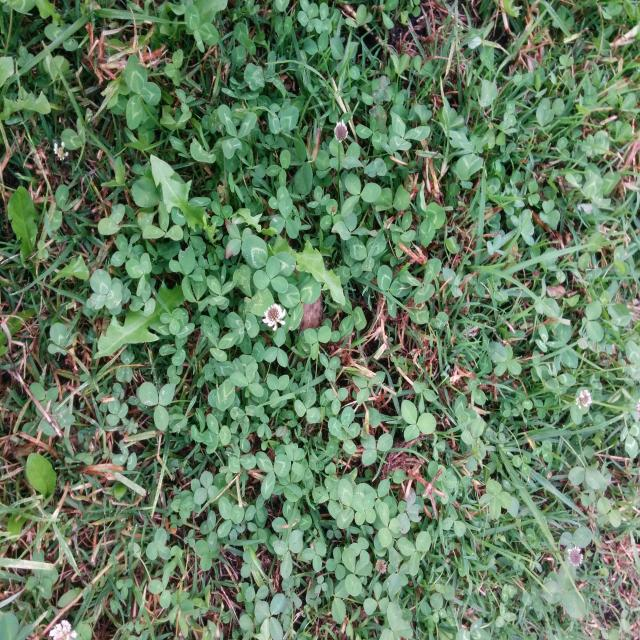Four Leaf Clover: (479, 480, 513, 521)
